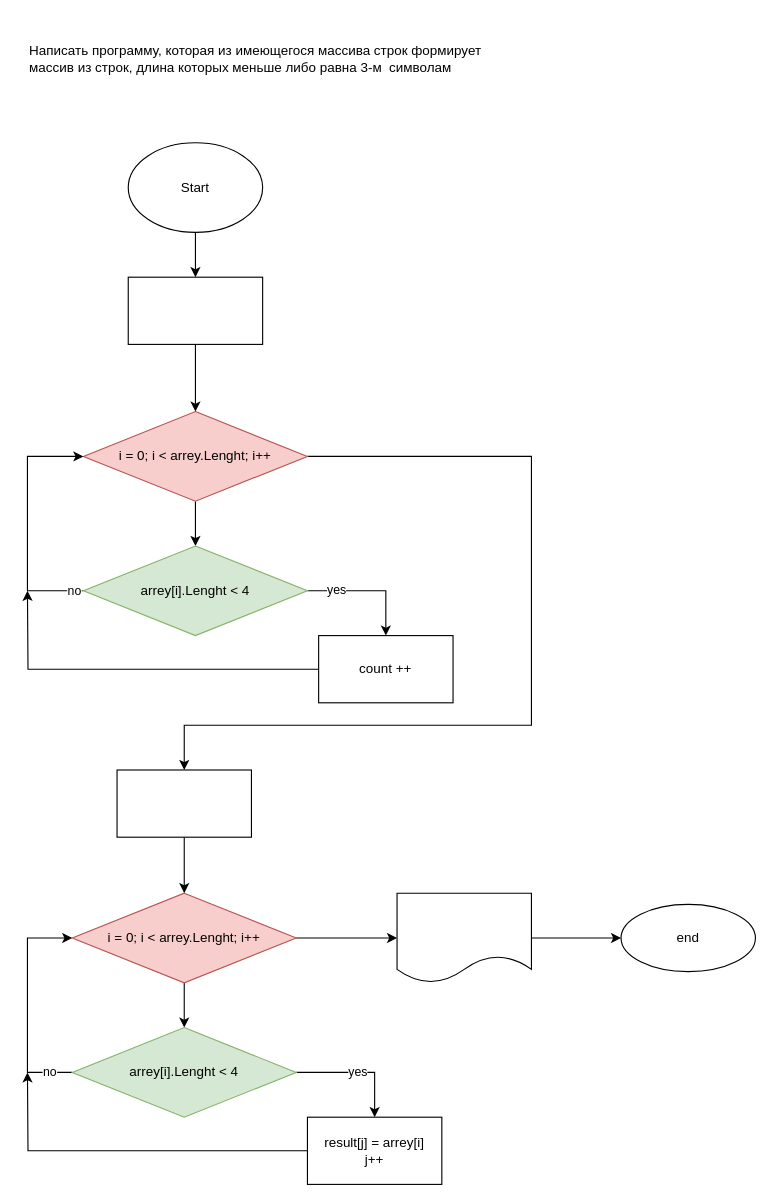
The diagram is 775 pixels wide and 1204 high, and some of its shapes have lost their labels. Here are the shapes that lost their labels. From the top down, the centre of each, then its label:
[195,310]: string arrey[]; int count = 0;
[183,803]: strung result = new string[count]; int j = 0;
[463,937]: arrey; result
